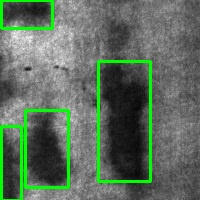patches: (98, 61, 150, 181), (25, 110, 68, 187), (1, 126, 21, 200), (1, 1, 52, 28)
